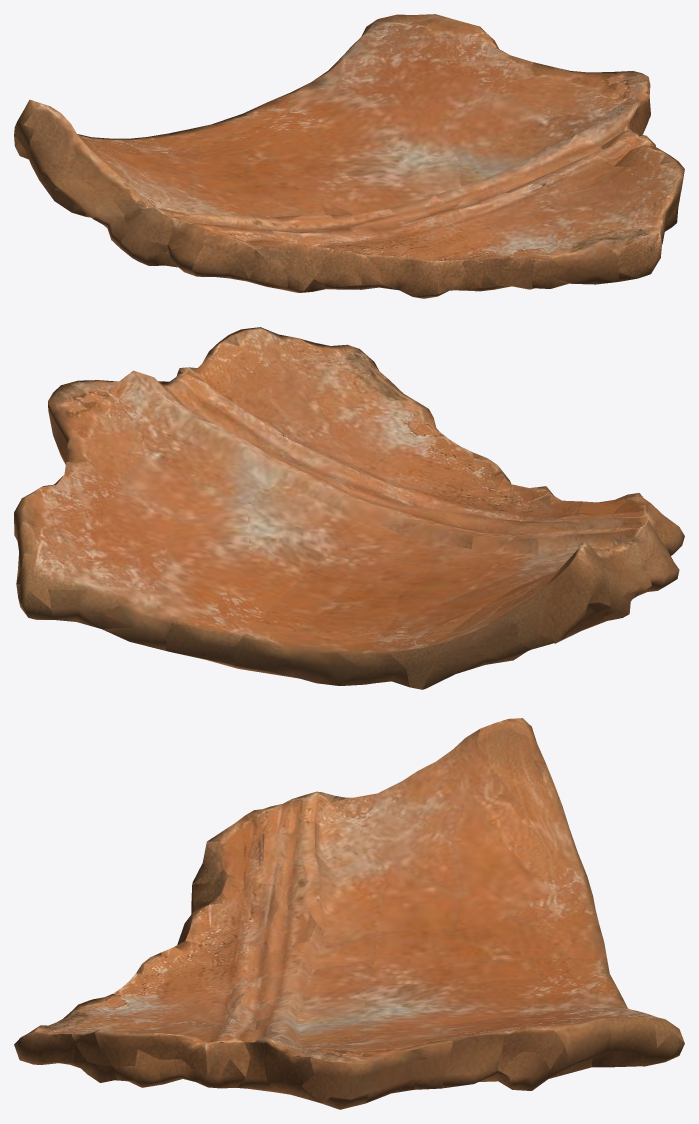
Rendered from chaos-amphora.glb.
3 renders of one model, top to bottom at view 1: azimuth 30°, elevation 25°; view 2: azimuth 150°, elevation 25°; view 3: azimuth 270°, elevation 25°, orthographic. The views are drawn at different scales.
Parts seen in each view (by area): view 1: mesh_node; view 2: mesh_node; view 3: mesh_node.
Boxes of the visible parts, x1,y1,x2,y2 form: mesh_node: [14, 14, 684, 298]; mesh_node: [14, 327, 684, 689]; mesh_node: [14, 718, 684, 1109].
Size of the model in its own units: 1 by 0.2393 by 0.9414.
Materials: 1 (1 with a texture image).
